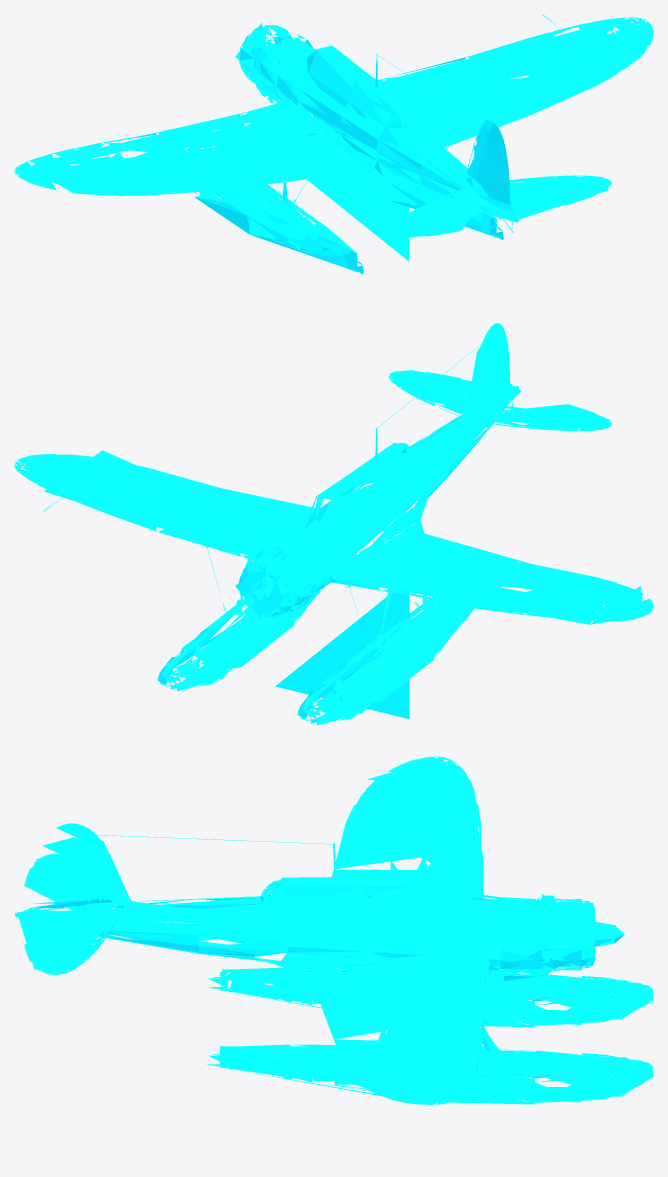
File: PJAS004.glb
The picture shows the model from 3 angles, top to bottom: view 1: azimuth 30°, elevation 25°; view 2: azimuth 150°, elevation 25°; view 3: azimuth 270°, elevation 25°; orthographic projection. The views are drawn at different scales.
Visible parts, largest first — view 1: misc; view 2: misc; view 3: misc.
Part boxes in pixels (x1,y1,x2,y2): misc: (14,14,653,274); misc: (14,323,653,726); misc: (14,756,653,1104).
Bounding box in the file's own units: 0.966 × 0.3917 × 0.7515.
